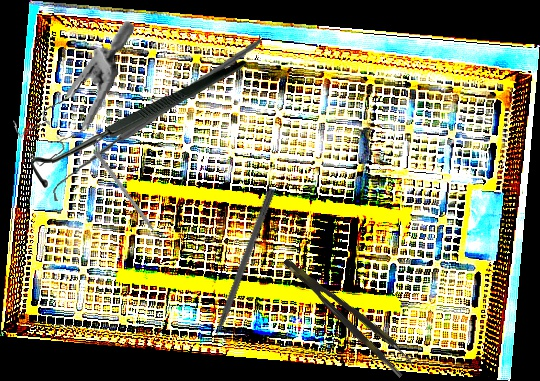Hook Surgical: (41, 39, 274, 201), (30, 56, 247, 193)
Pusher: (202, 186, 277, 358), (92, 149, 167, 249)
Speculum: (7, 8, 137, 178)
Tissue Forceps: (280, 247, 416, 379)
